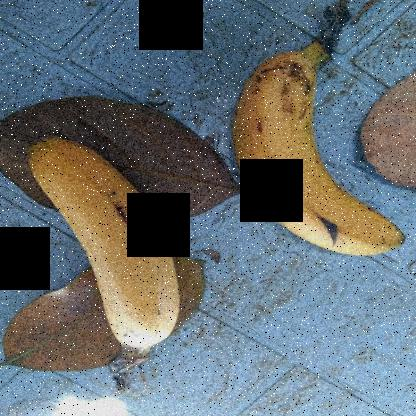freshripe: (0, 116, 190, 358)
ripe: (230, 45, 411, 269)
